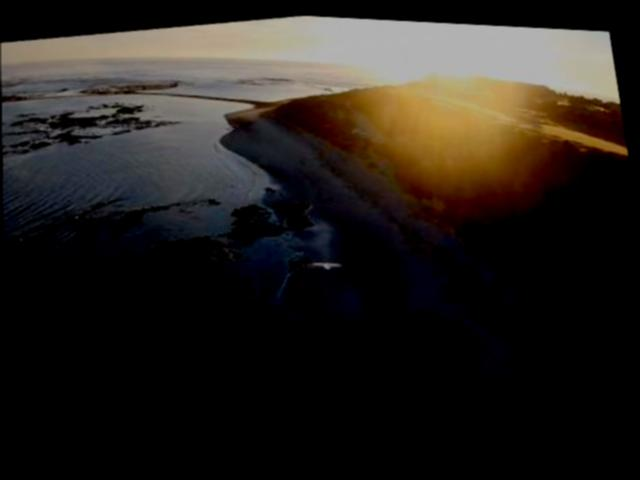uav: (306, 252, 345, 271)
